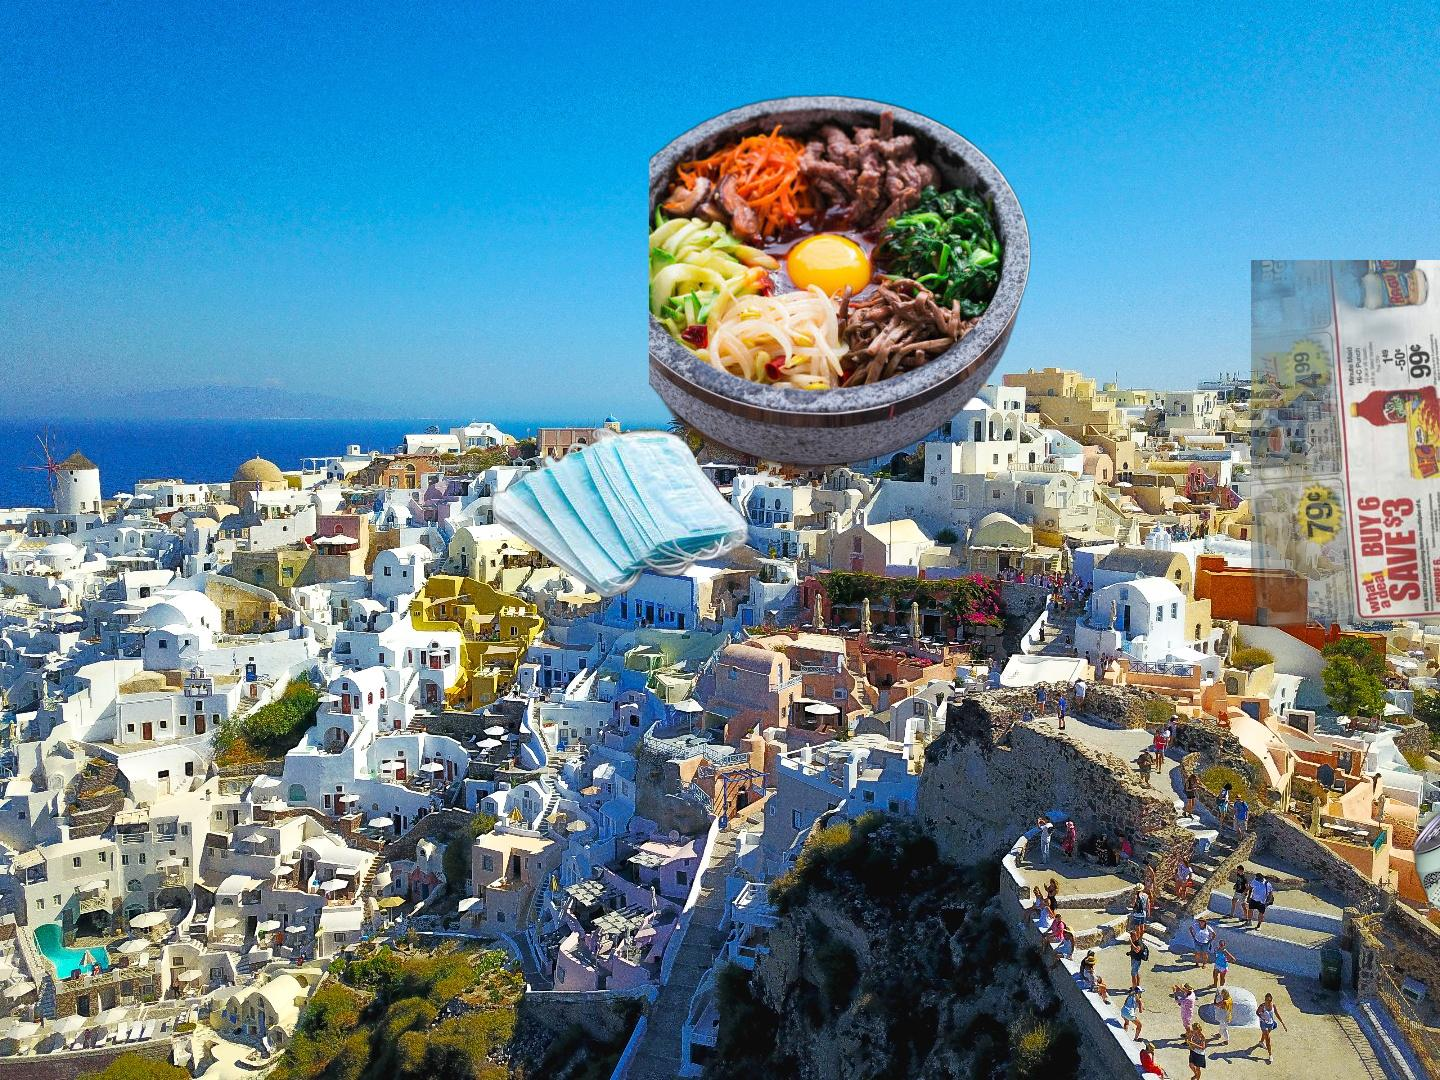biological: (649, 90, 1034, 499)
metal-cans: (1408, 803, 1440, 933)
paper: (1251, 260, 1440, 644)
trash: (488, 428, 757, 600)
trashbox-cardboard: (1438, 999, 1440, 1080)
